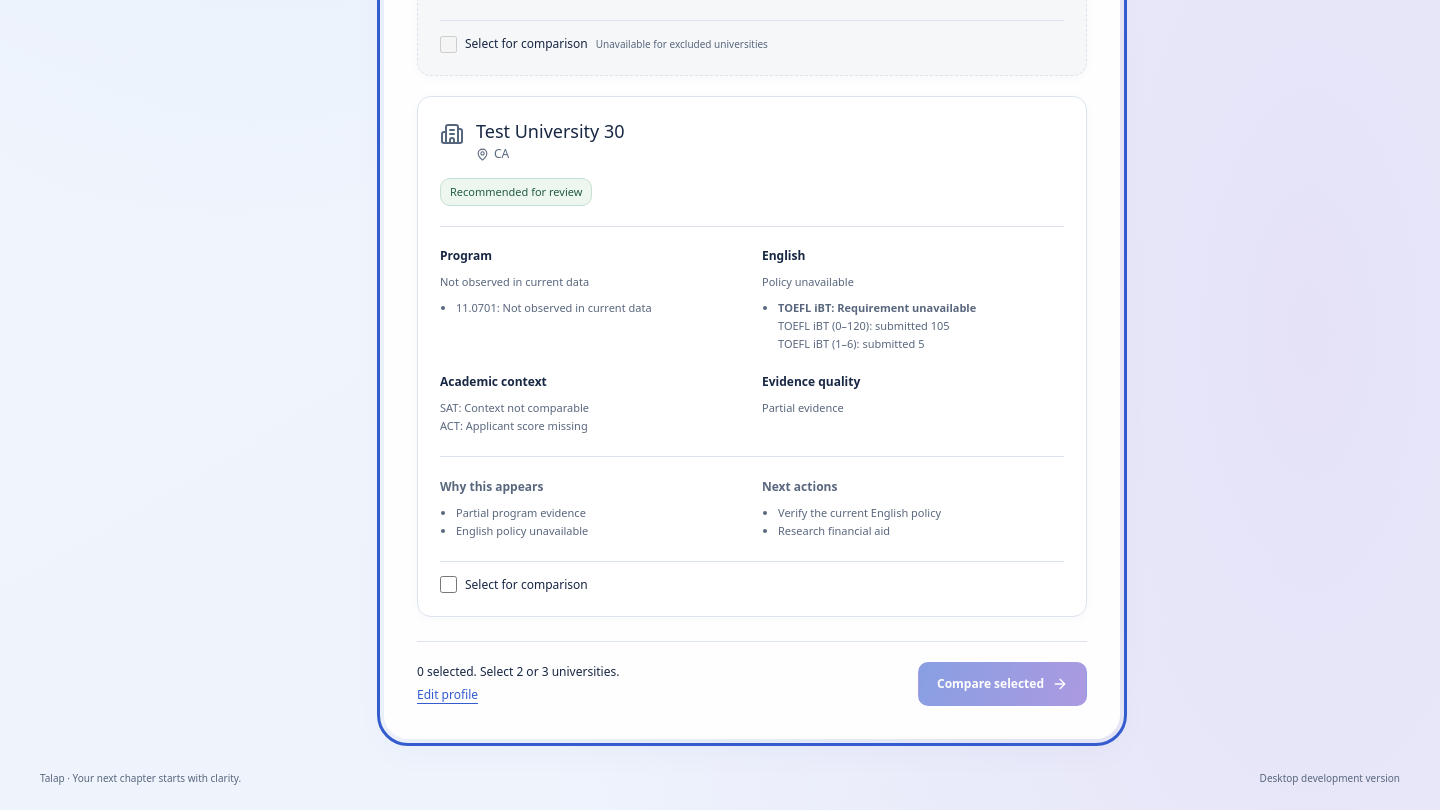
Test: complete desktop journey integration › a saved update to profile preparation removes old universities and blocks recommendation navigation
The width and height of the screenshot is (1440, 810).
(page scrolled)
Click the link "Edit profile" at (448, 695), box [417, 686, 478, 704]
(page scrolled)
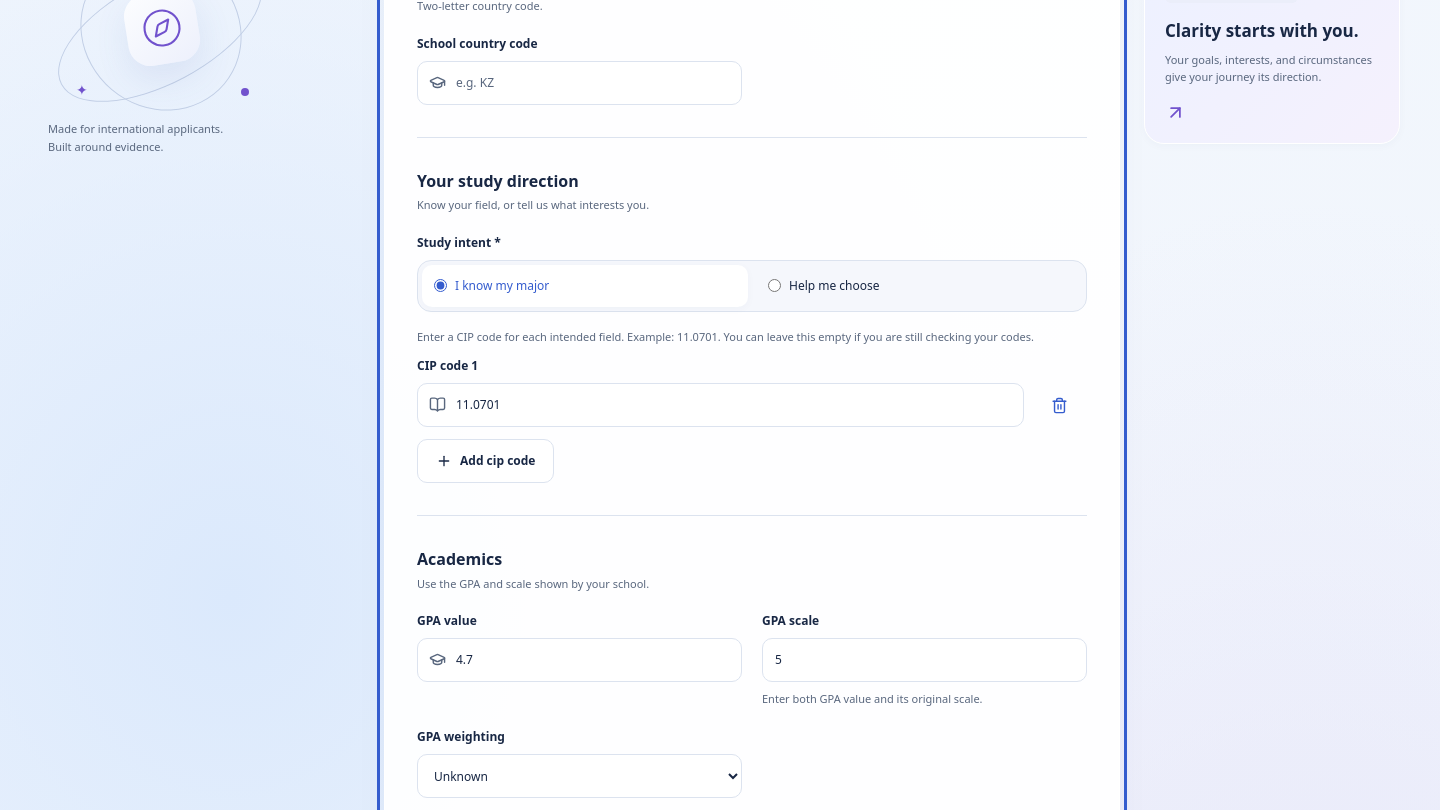
Click the button named "Remove cip code 1" at (1060, 406), box [1032, 384, 1087, 428]
(page scrolled)
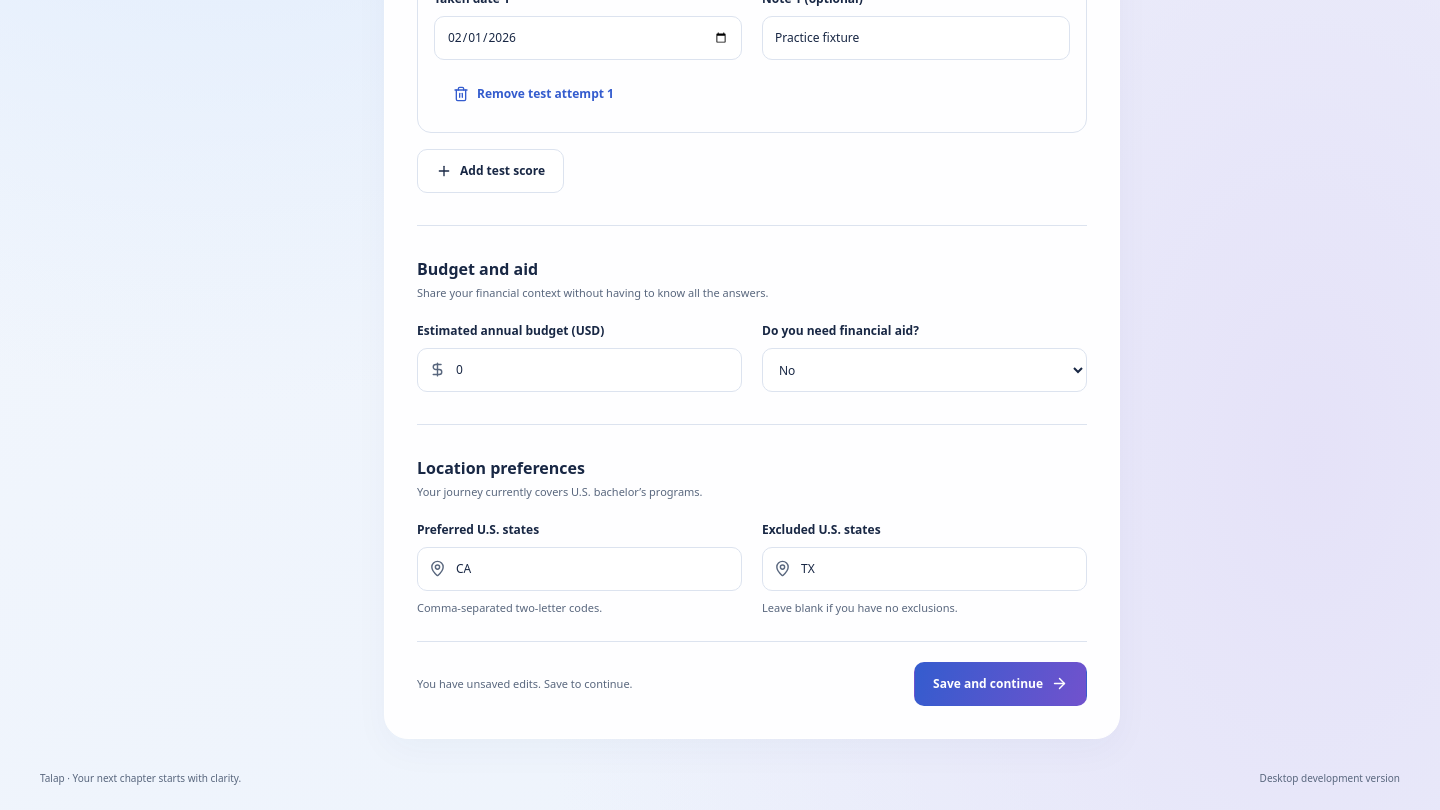
Click the button "Save and continue" at (1000, 684), box [914, 662, 1087, 706]
(page scrolled)
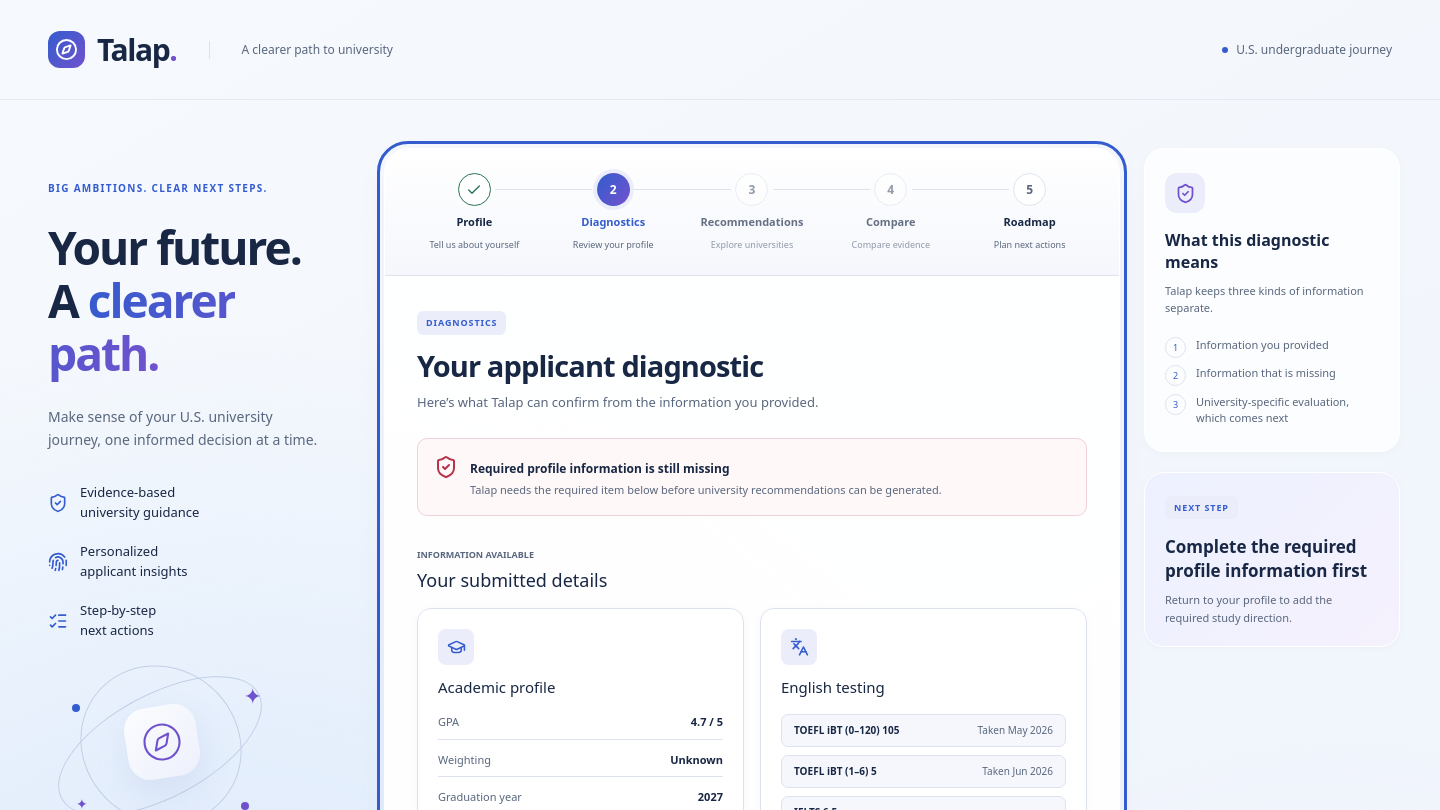
Result: the text "Required profile information is still missing" is shown at [470, 460, 730, 477]
Click the link "5 Roadmap Plan next actions" at (1030, 212), box [994, 173, 1066, 250]
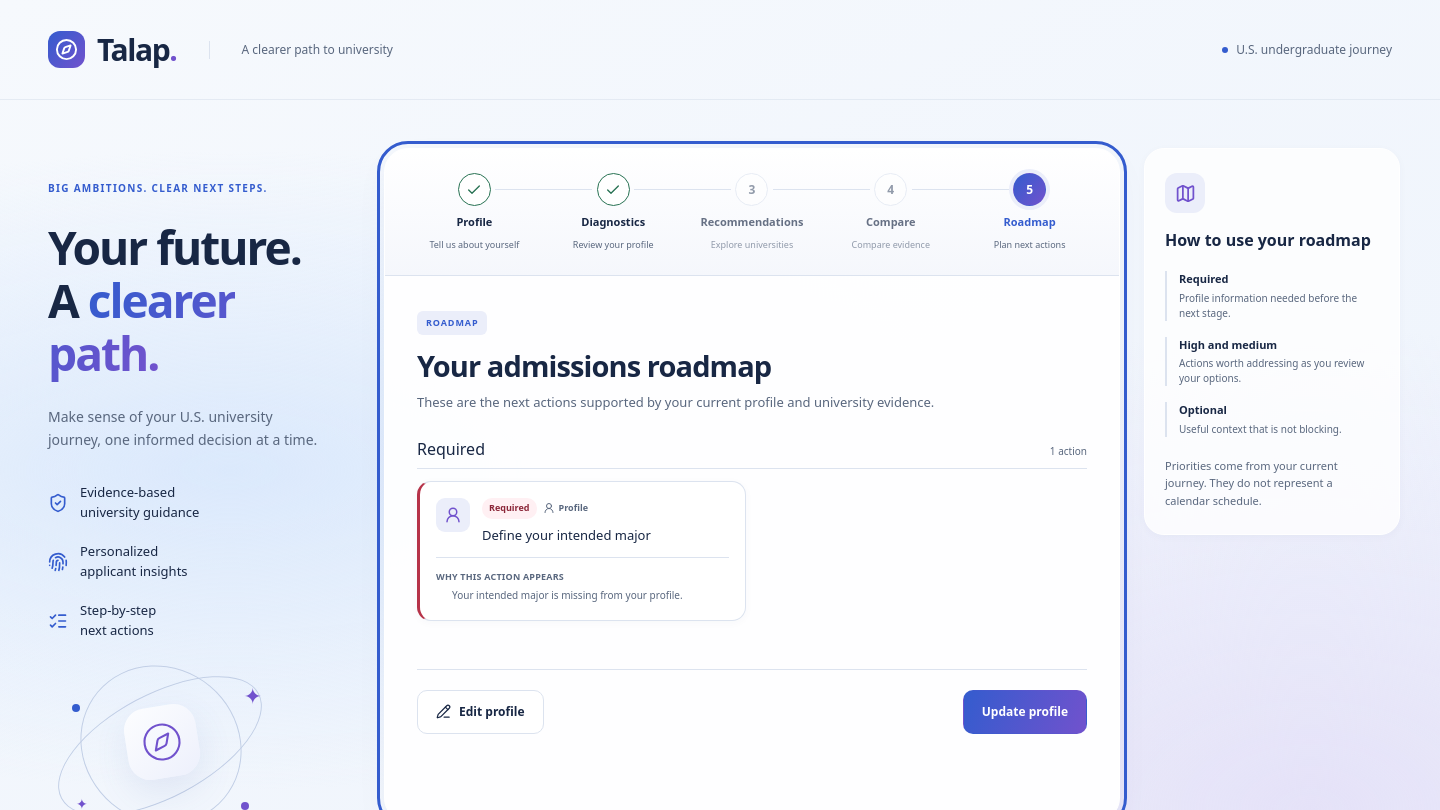
Result: the heading "Define your intended major" is shown at [482, 526, 651, 544]
